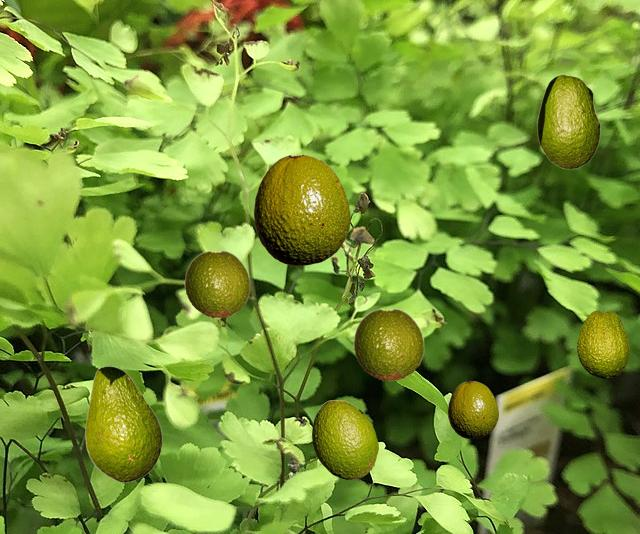avocado: (254, 154, 349, 264), (85, 366, 161, 481), (537, 74, 599, 168), (353, 308, 424, 380), (312, 400, 377, 478), (184, 250, 250, 317), (577, 310, 628, 377), (448, 381, 497, 437)
